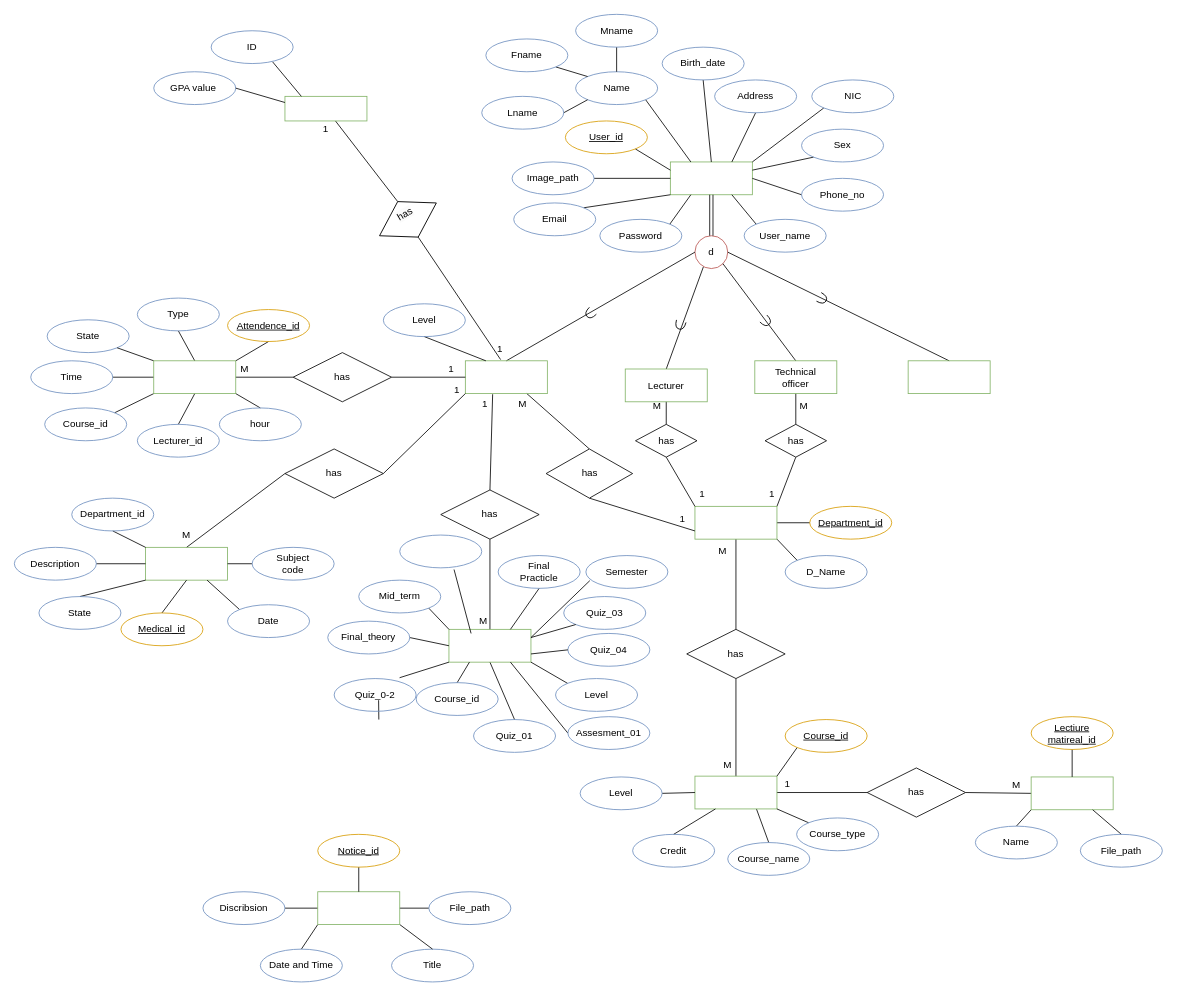
Image size: 1177x996. Some labels were removed from this diagram. The shapes that lost their labels are listed below. From the top down, each one's centre as x and y in pixels, then its label:
At (x=325, y=108): "GPA".
At (x=711, y=178): "User".
At (x=194, y=377): "Attendence".
At (x=506, y=377): "Student".
At (x=948, y=377): "Admin".
At (x=735, y=522): "Department".
At (x=186, y=563): "Medical".
At (x=440, y=551): "Assesment_02".
At (x=489, y=645): "Mark".
At (x=735, y=792): "Course".
At (x=1071, y=793): "Lectiure matireal".
At (x=358, y=908): "Notice".
